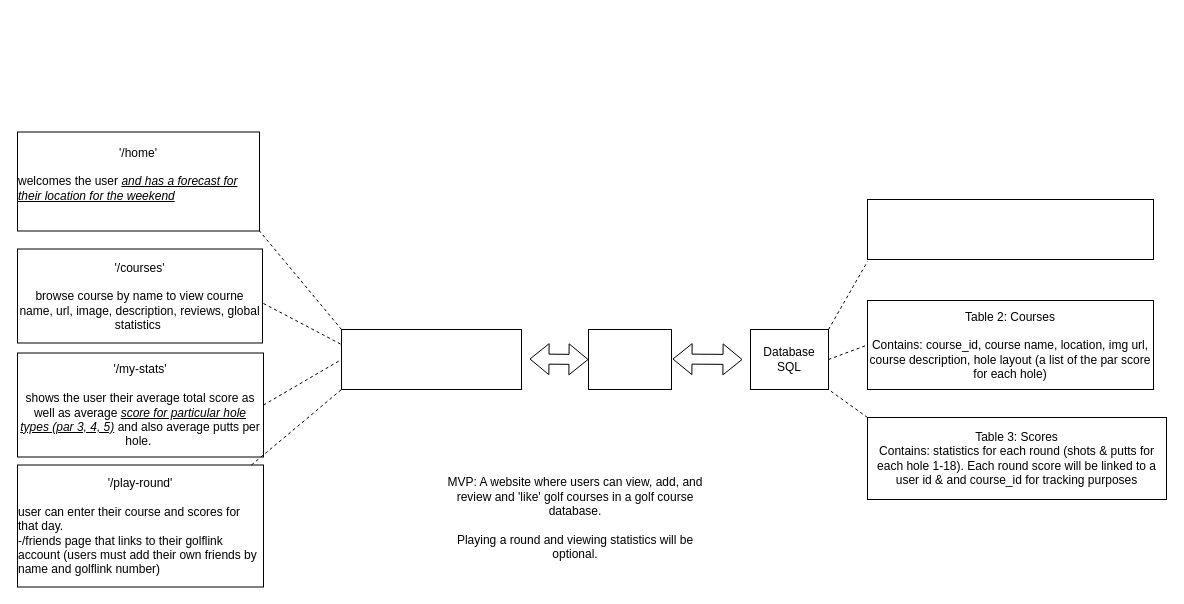
The diagram is 1184 pixels wide and 604 high, and some of its shapes have lost their labels. The shapes that lost their labels are listed below. From the top down, each one's centre as x and y in pixels, then its label:
At (x=1010, y=229): "Table 1: Users Contains: user_id, name, email, password, username, friends".
At (x=431, y=359): "Golf web app HTML/CSS/JS".
At (x=630, y=359): "Flask App Python".
